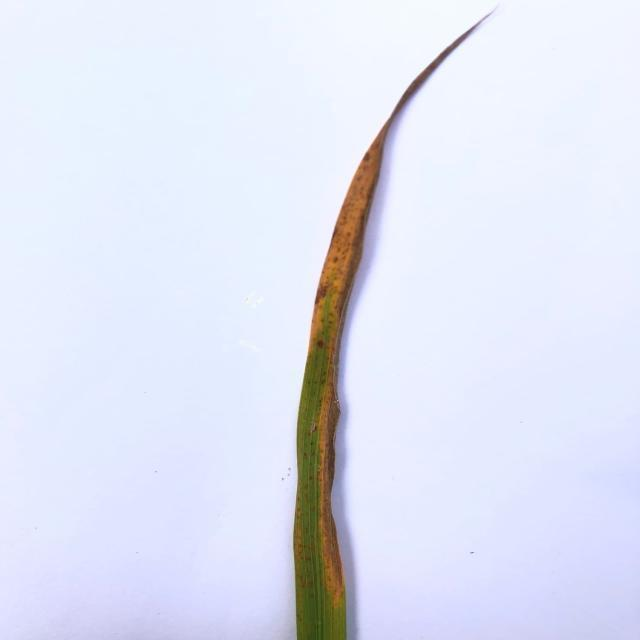Rice Tungro: (240, 1, 424, 640)
